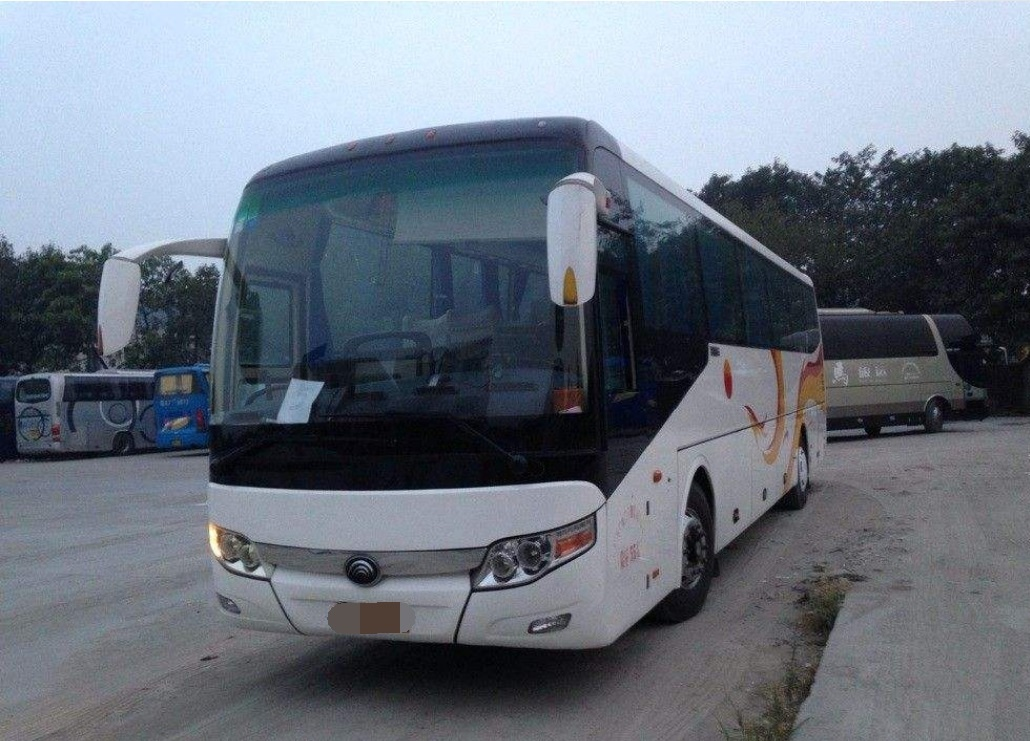bus: (91, 116, 850, 653)
